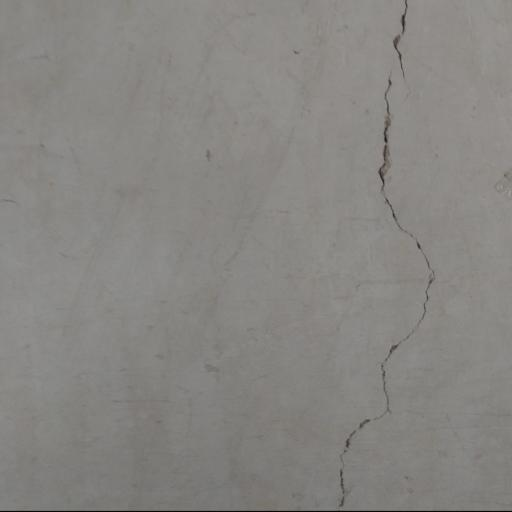minor_crack: (329, 1, 446, 512)
